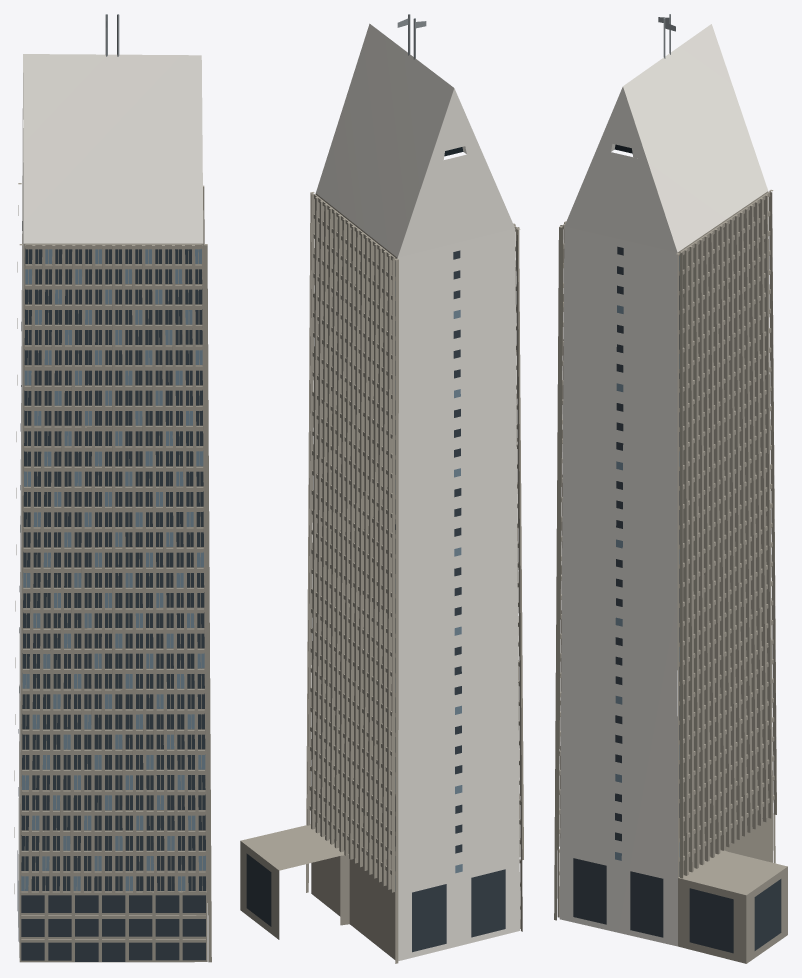
File: edificio-coltejer-near.glb
The picture shows the model from 3 angles, left to right: view 1: azimuth 30°, elevation 25°; view 2: azimuth 150°, elevation 25°; view 3: azimuth 270°, elevation 25°; orthographic projection. The views are drawn at different scales.
Parts seen in each view (by area): view 1: edificio-coltejer-0-concrete, edificio-coltejer-0-glass, edificio-coltejer-0-end, edificio-coltejer-0-glow; view 2: edificio-coltejer-0-end, edificio-coltejer-0-concrete, edificio-coltejer-0-glass, edificio-coltejer-0-glow; view 3: edificio-coltejer-0-end, edificio-coltejer-0-concrete, edificio-coltejer-0-glass, edificio-coltejer-0-glow.
Part boxes in pixels (x1,y1,x2,y2): edificio-coltejer-0-concrete: (14, 183, 211, 962); edificio-coltejer-0-glass: (17, 221, 205, 961); edificio-coltejer-0-end: (18, 54, 203, 957); edificio-coltejer-0-glow: (19, 248, 205, 890); edificio-coltejer-0-end: (316, 23, 520, 960); edificio-coltejer-0-concrete: (240, 192, 523, 963); edificio-coltejer-0-glass: (246, 250, 505, 952); edificio-coltejer-0-glow: (395, 281, 462, 890); edificio-coltejer-0-end: (559, 24, 768, 946); edificio-coltejer-0-concrete: (554, 189, 787, 963); edificio-coltejer-0-glass: (573, 246, 781, 953); edificio-coltejer-0-glow: (615, 256, 679, 860).
Size of the model in its own units: 50.35 by 183 by 43.84.
